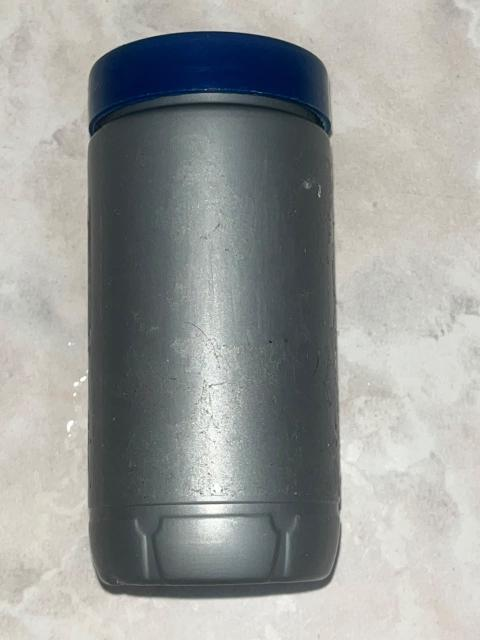HDPE: (65, 23, 388, 575)
